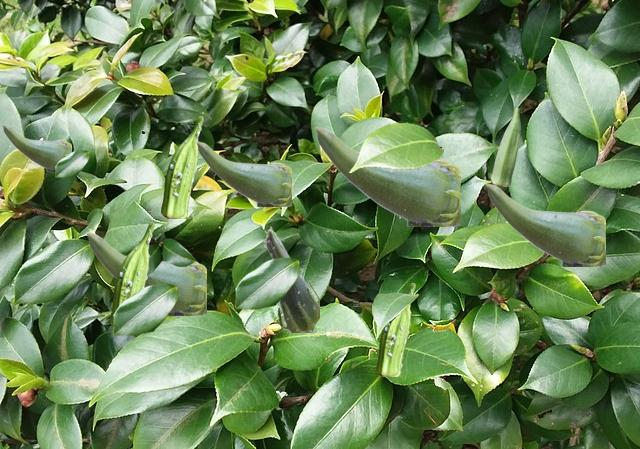okra: (314, 126, 459, 225), (86, 232, 205, 314), (485, 183, 604, 265), (196, 141, 290, 205), (263, 226, 318, 331), (110, 222, 153, 326), (161, 116, 202, 217), (376, 283, 414, 375), (2, 124, 70, 170), (491, 107, 519, 185)
